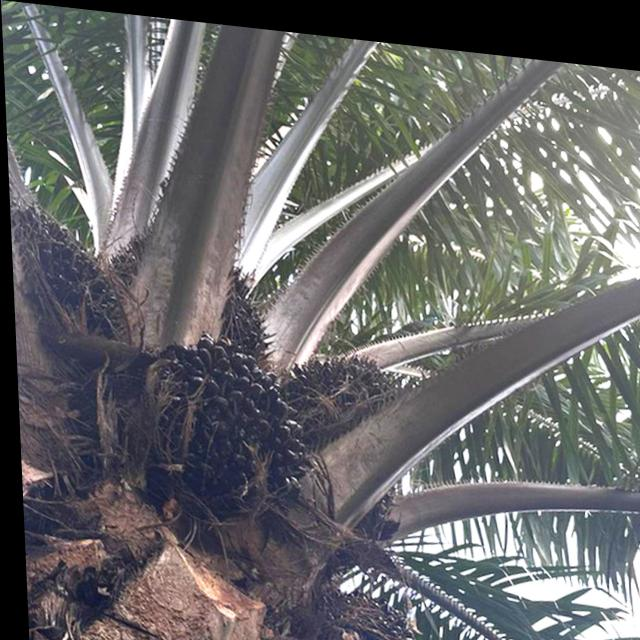unripe: (129, 320, 304, 523), (7, 188, 121, 337), (280, 339, 406, 473), (271, 576, 418, 640)
